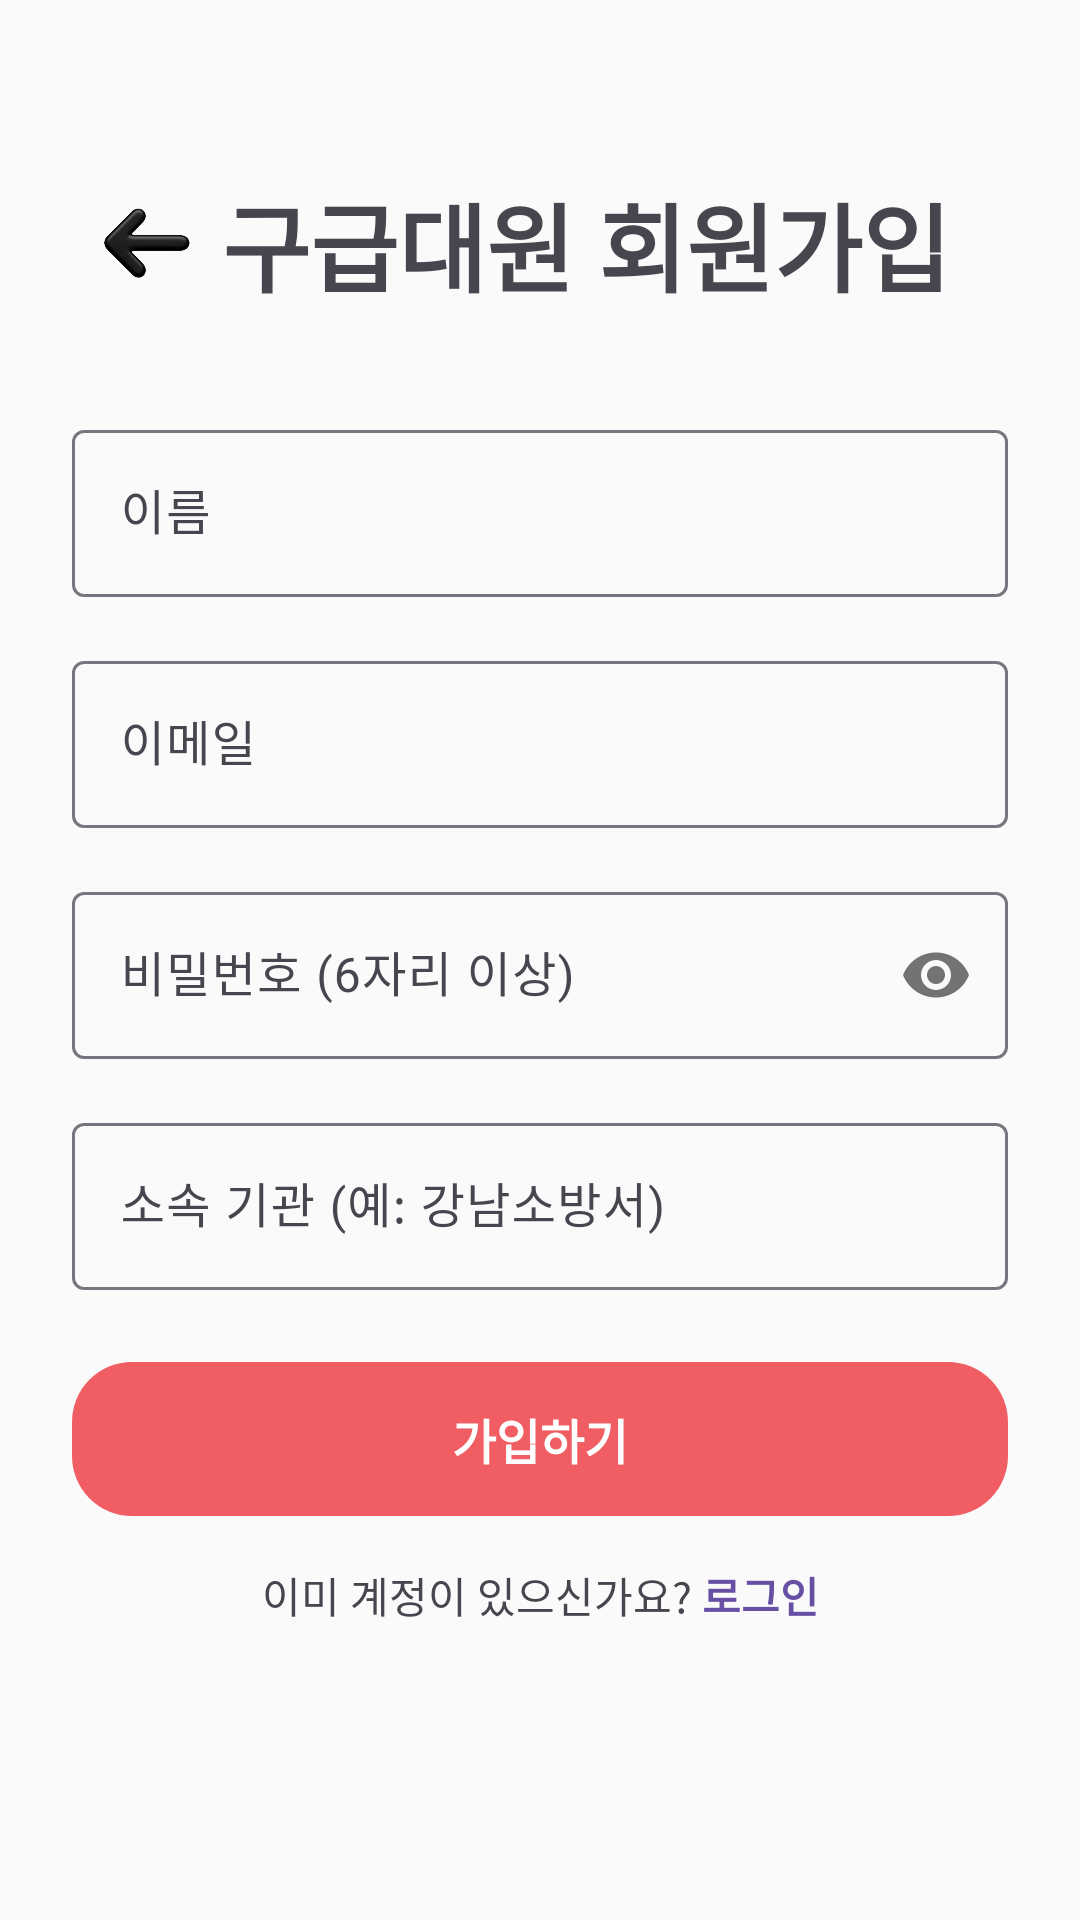

Point at icon controls on the screen. Image size 1080w x 1920h, points as point (x, y).
backicon: point (147, 243)
